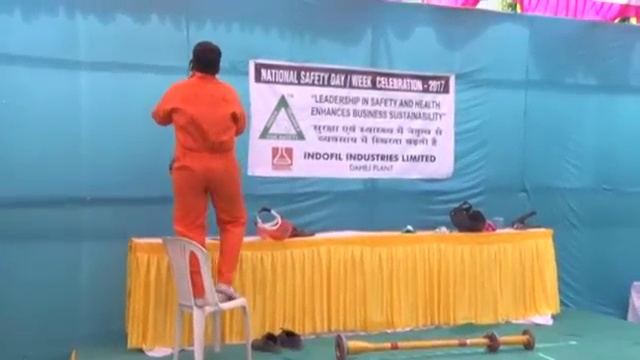helmet_off: (189, 41, 224, 74)
person: (155, 40, 246, 302)
